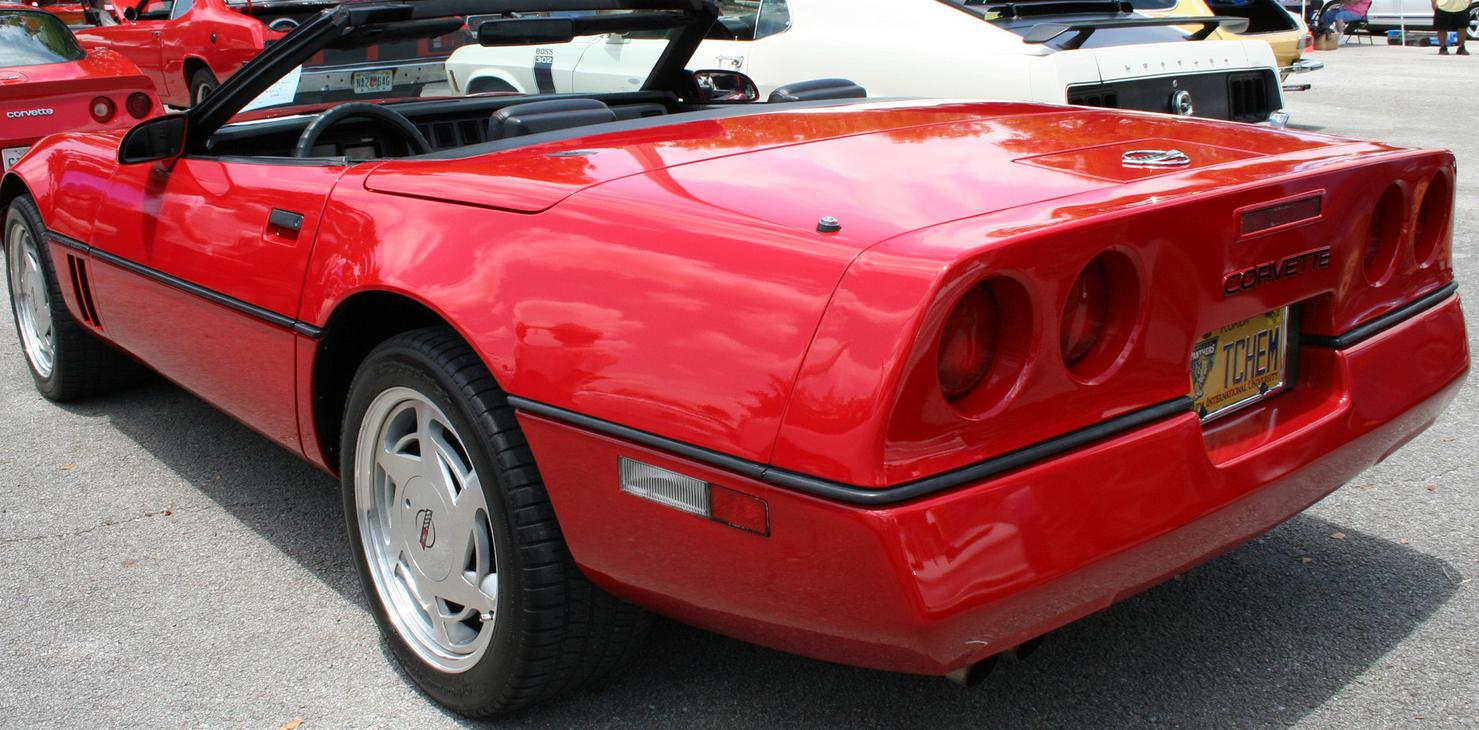back_view: (864, 134, 1479, 700)
backlight: (919, 255, 1154, 413)
